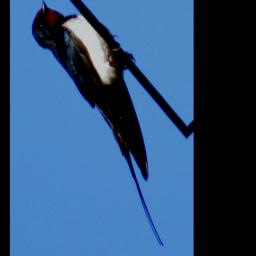Swallow: (21, 0, 176, 250)
